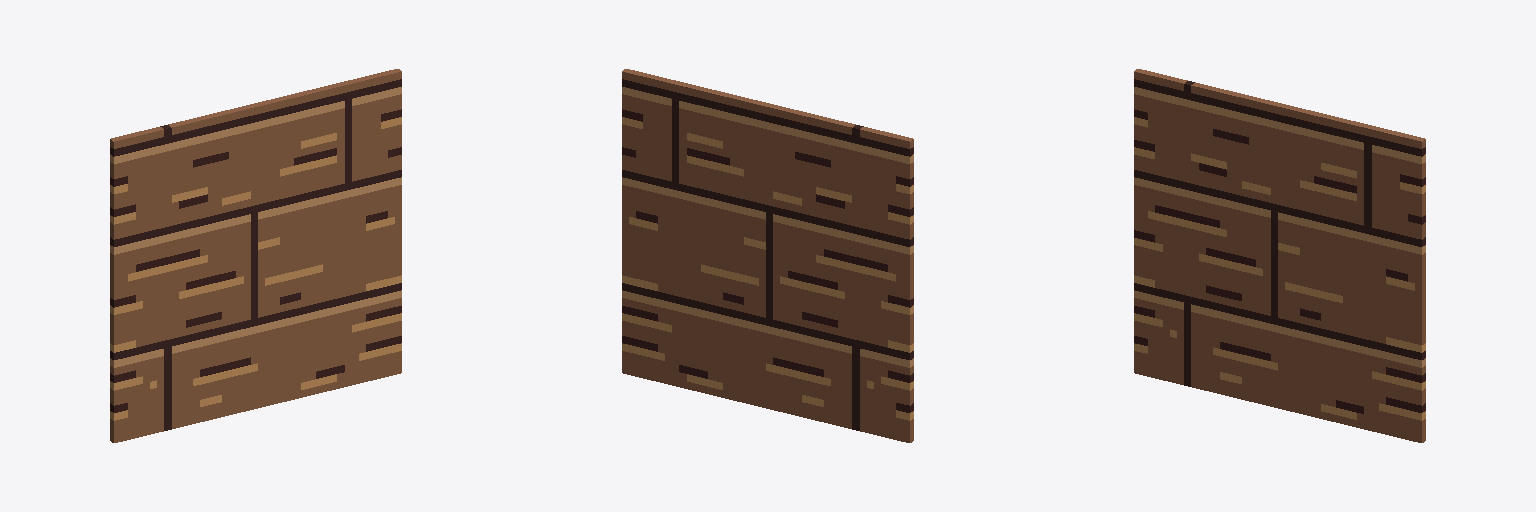
3 views of the same model, side by side, from view 1: azimuth 30°, elevation 25°; view 2: azimuth 150°, elevation 25°; view 3: azimuth 330°, elevation 25° (orthographic).
Visible parts, largest first — view 1: object 1; view 2: object 1; view 3: object 1.
Boxes of the visible parts, box(x1,y1,x2,y2) form: object 1: box(110, 69, 401, 442); object 1: box(622, 69, 913, 442); object 1: box(1134, 69, 1425, 442).
Size of the model in its own units: 4 by 4 by 0.1.
Materials: 1 (1 with a texture image).